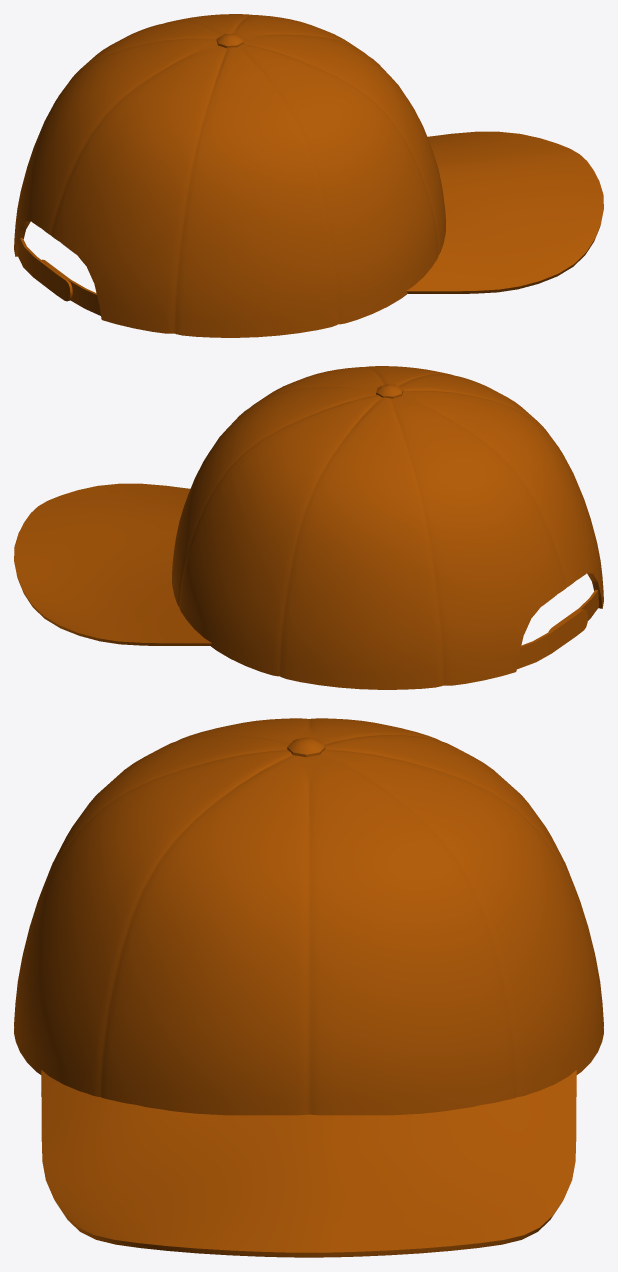
The model's file is PropellerHatBase.fbx.
3 renders of one model, top to bottom at view 1: azimuth 30°, elevation 25°; view 2: azimuth 150°, elevation 25°; view 3: azimuth 270°, elevation 25°, orthographic. The views are drawn at different scales.
Visible parts, largest first — view 1: propeller cap base; view 2: propeller cap base; view 3: propeller cap base.
Part boxes in pixels (left/top/right/bottom): propeller cap base: left=14, top=14, right=603, bottom=337; propeller cap base: left=14, top=366, right=603, bottom=689; propeller cap base: left=14, top=718, right=603, bottom=1257.
Bounding box in the file's own units: 180 × 76.07 × 127.
